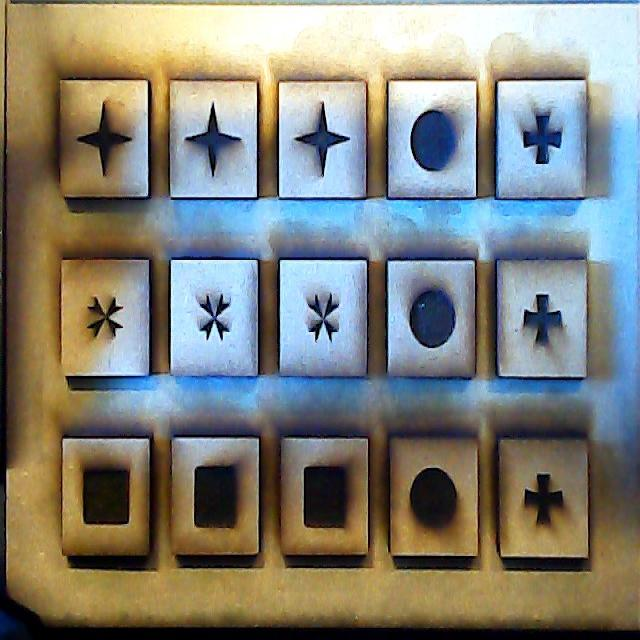circle: (388, 433, 482, 558), (388, 80, 475, 201), (388, 260, 474, 378)
maltese: (61, 256, 152, 382), (280, 258, 371, 379), (170, 261, 259, 379)
square: (62, 439, 151, 559), (172, 439, 260, 558), (282, 441, 369, 560)
star: (167, 80, 259, 204), (61, 83, 152, 202), (278, 82, 365, 198)
temple: (498, 439, 588, 563), (495, 80, 587, 200), (497, 260, 586, 378)
